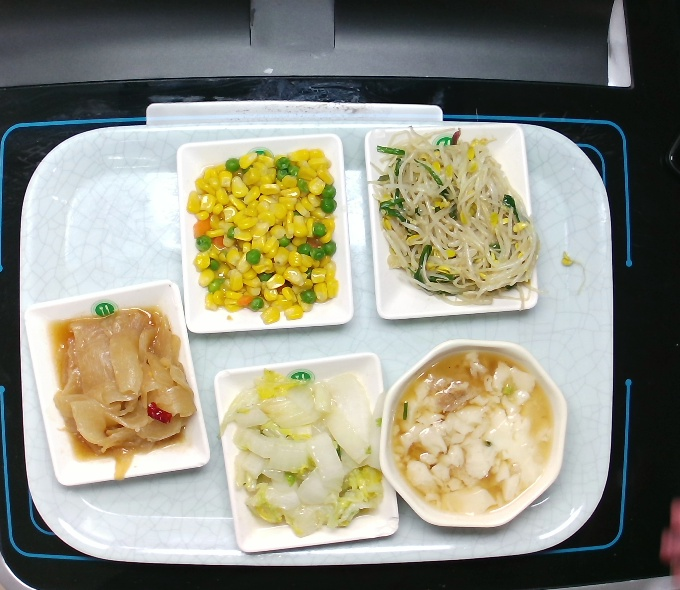wcq-DaBaiCai: (215, 367, 389, 540)
wcq-DongGua: (43, 304, 201, 486)
wcq-DouYa: (363, 122, 546, 316)
wcq-ShuiZhengDan: (387, 348, 558, 520)
wcq-TianMiTianDou: (184, 144, 345, 325)
